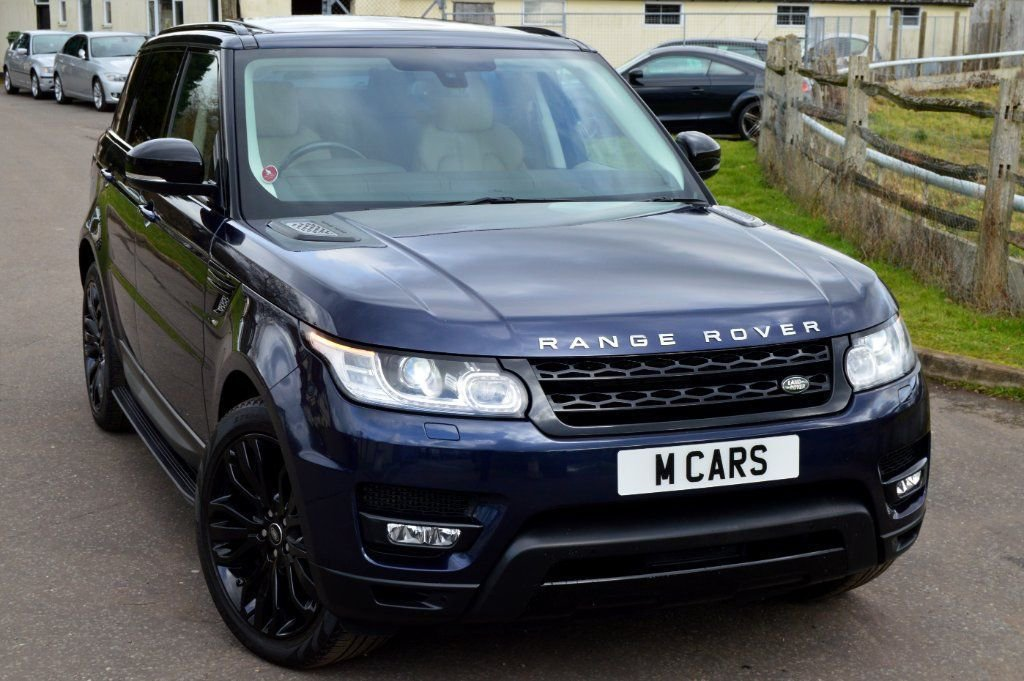car: (79, 21, 933, 652), (603, 33, 796, 148), (52, 24, 161, 114), (3, 25, 75, 101), (794, 35, 888, 71)
